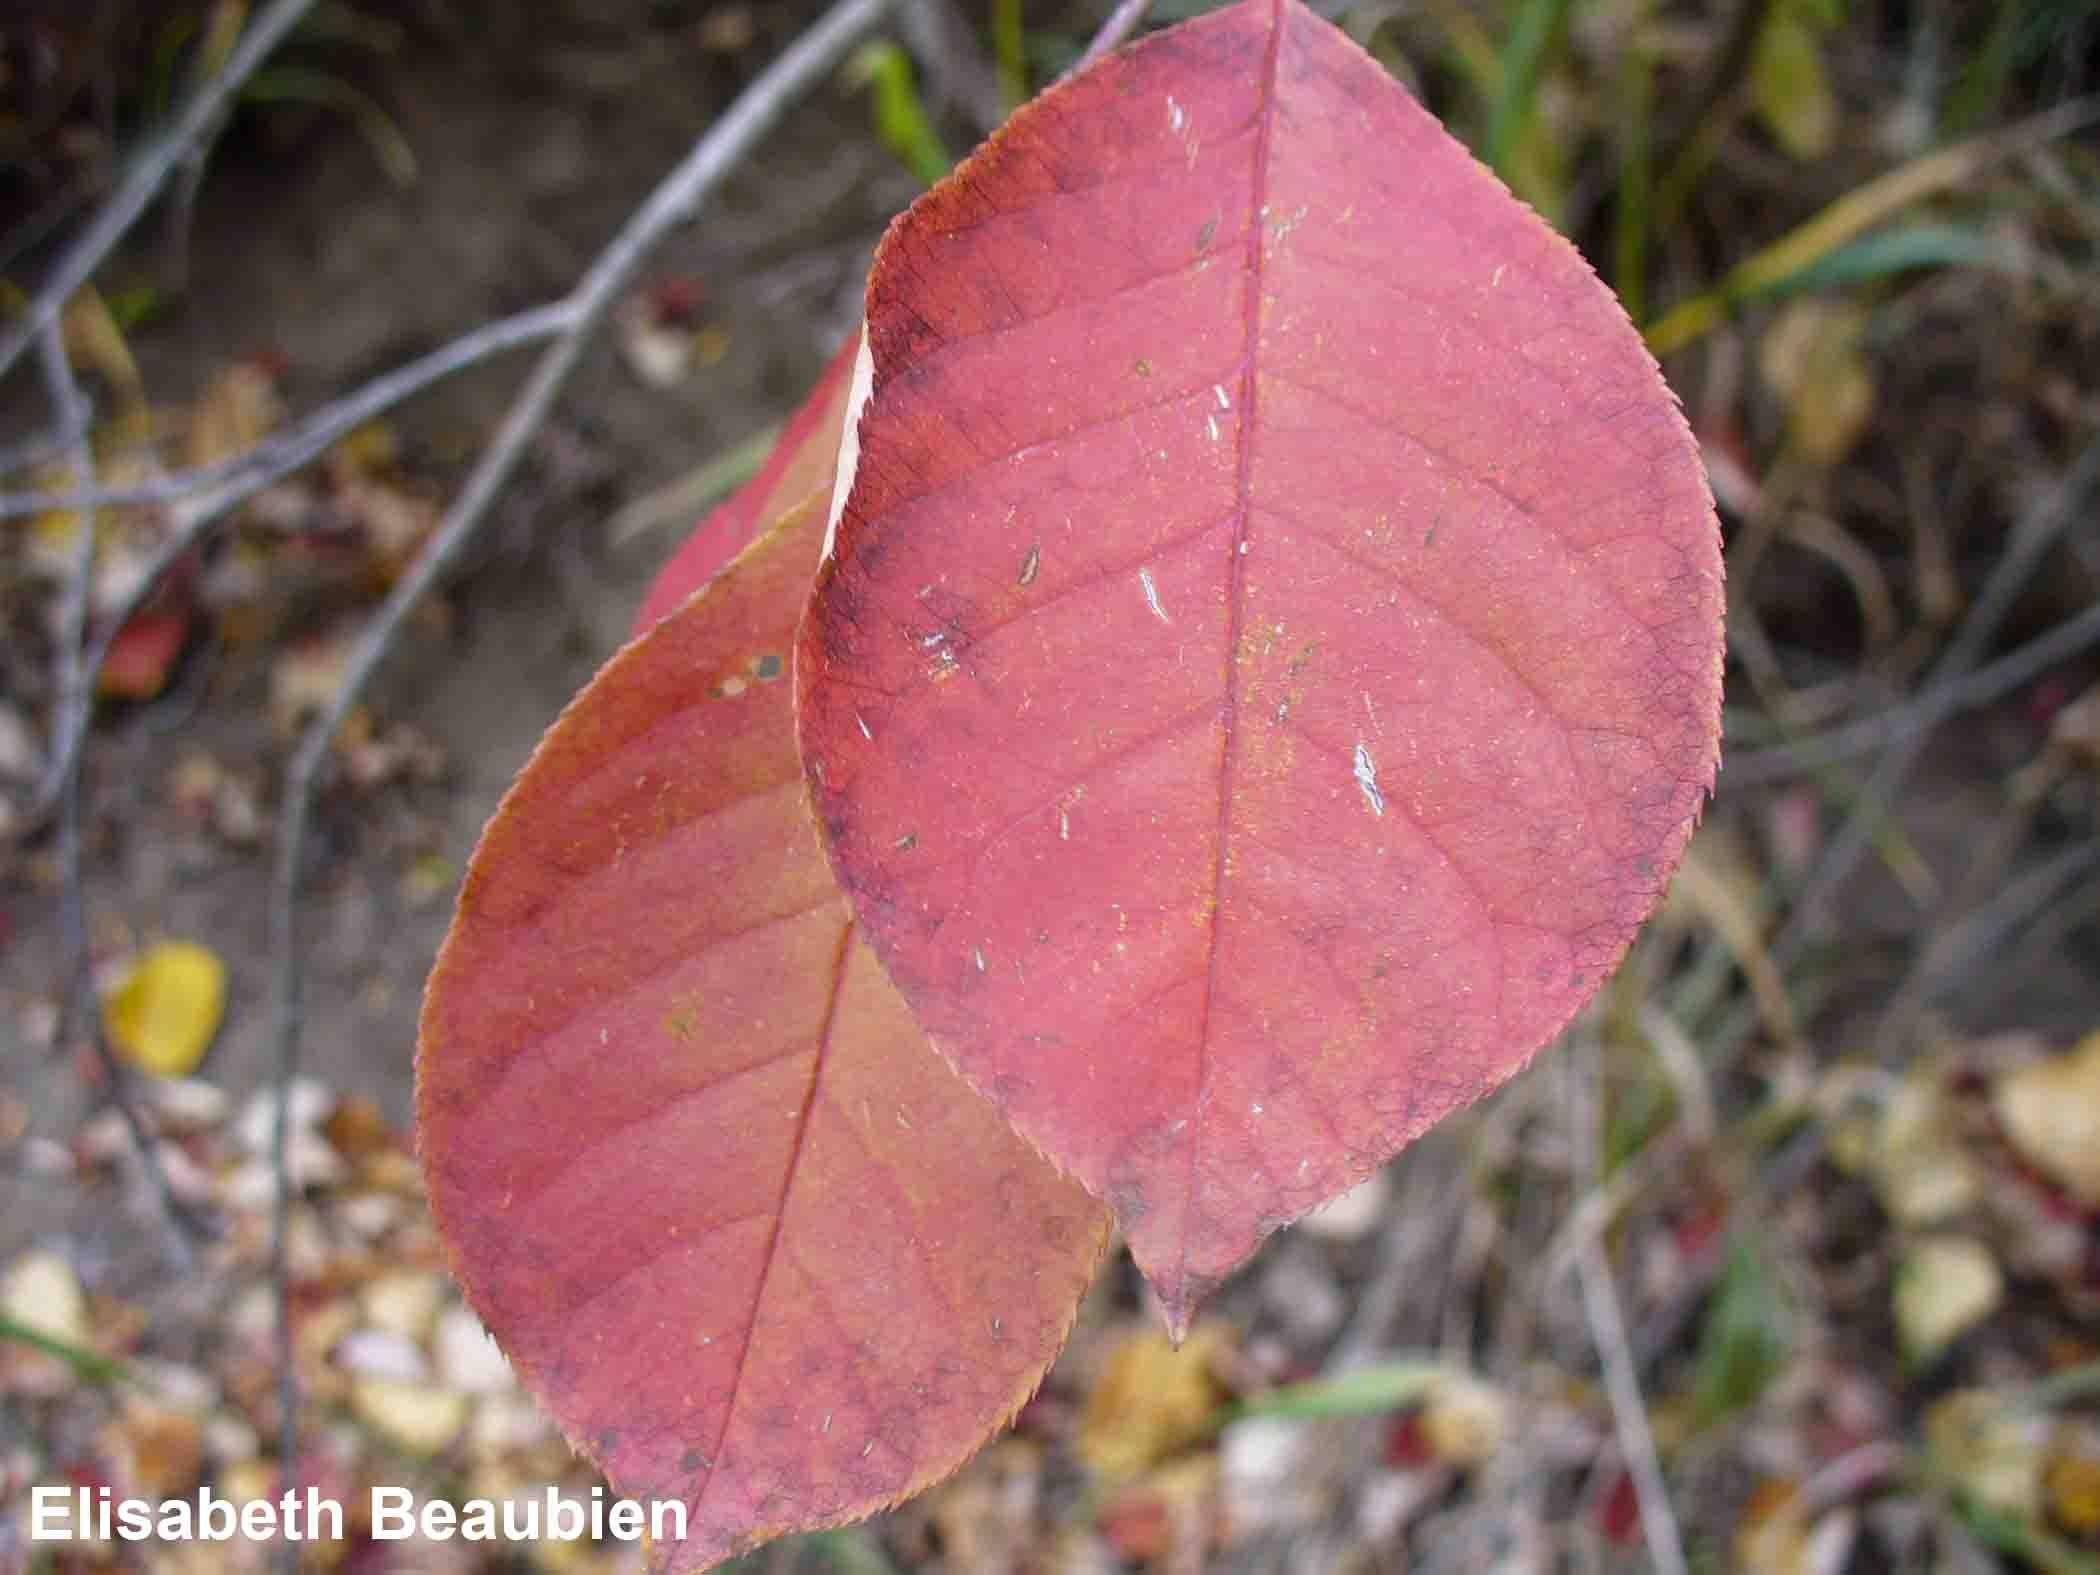Cherry leaf: (832, 13, 1740, 1266), (451, 430, 1091, 1575)
